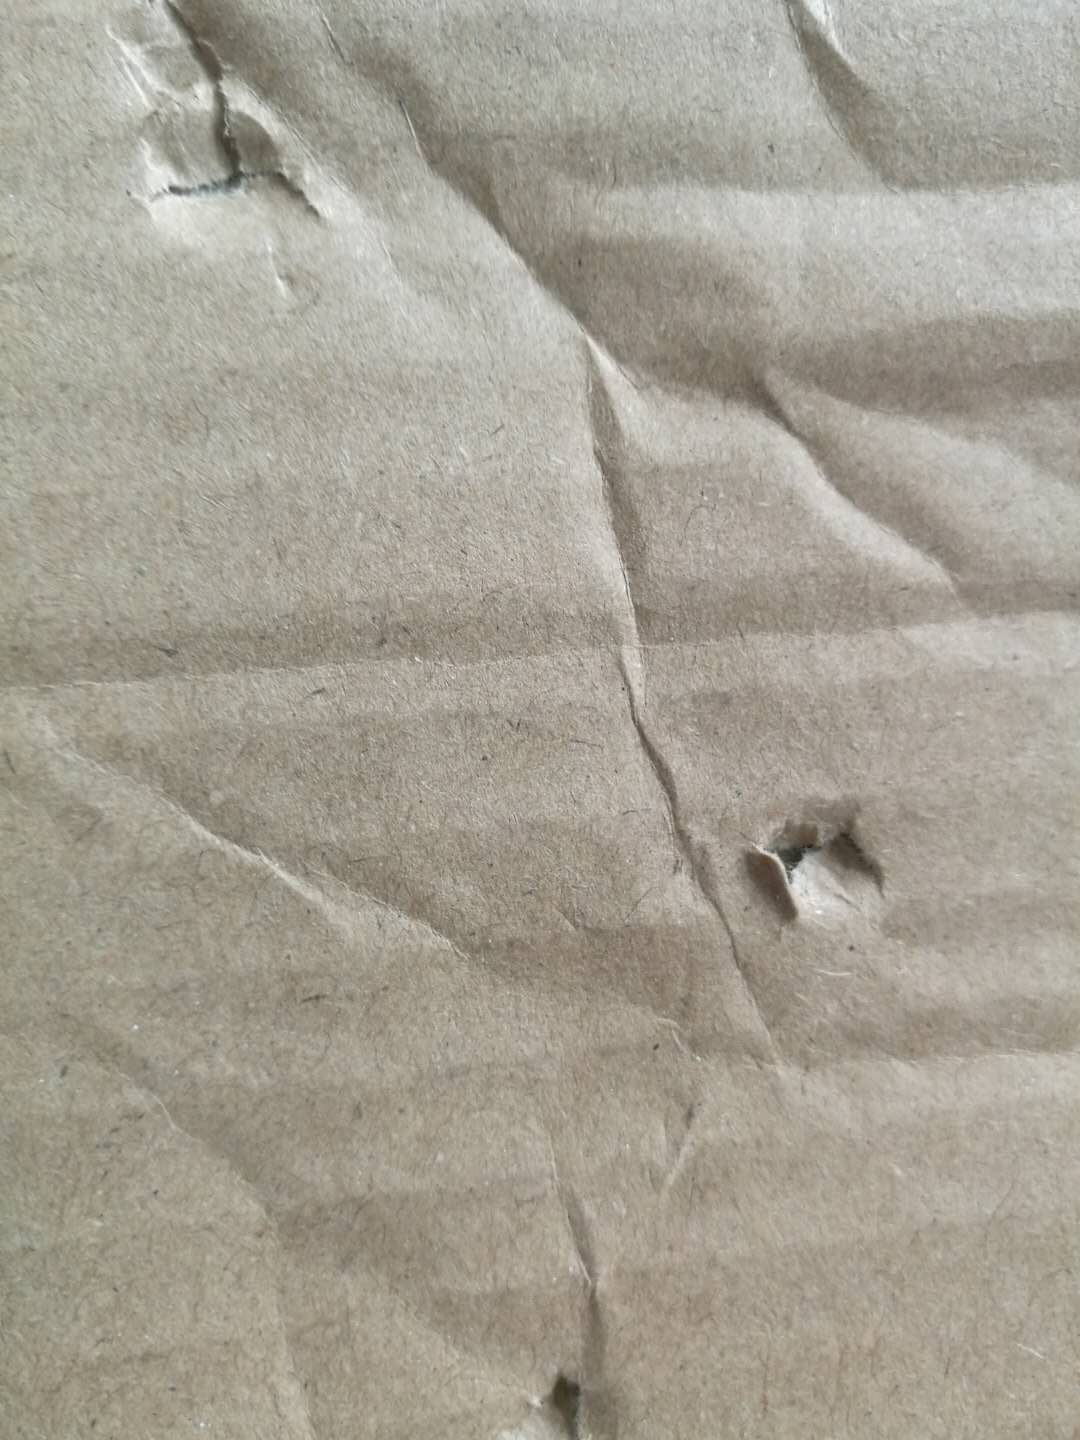defect: (311, 2, 1080, 605), (6, 999, 742, 1440), (3, 578, 1080, 774), (35, 710, 582, 1013), (583, 608, 820, 1093), (88, 5, 402, 325), (683, 982, 1080, 1113), (729, 773, 935, 952), (760, 2, 922, 198)
